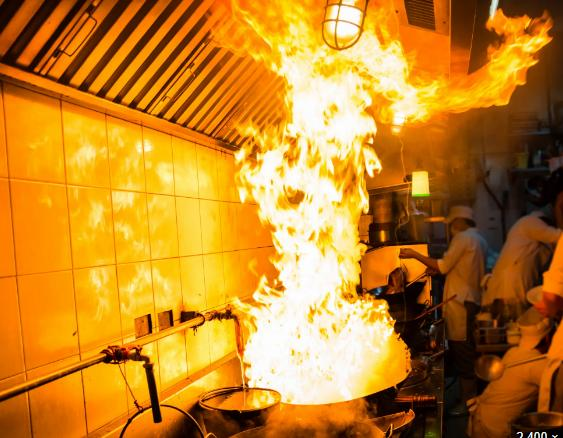fire: (202, 77, 499, 395)
